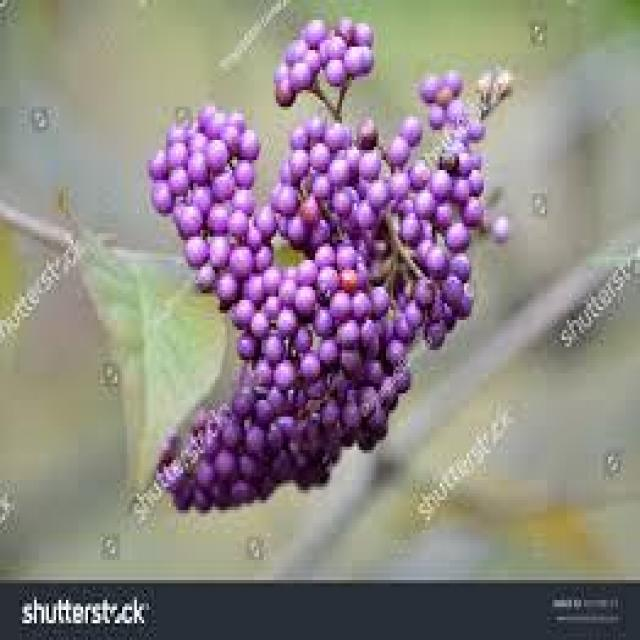organic waste: (142, 18, 506, 515)
